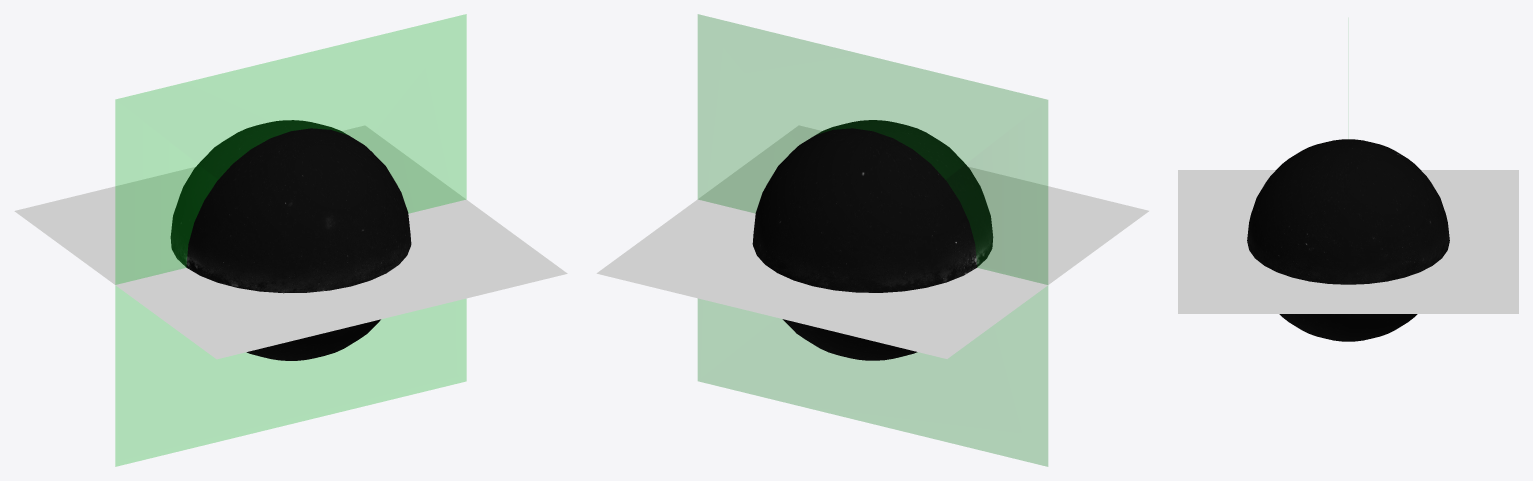
Rendered from portal-4.glb.
3 views of the same model, side by side, from view 1: azimuth 30°, elevation 25°; view 2: azimuth 150°, elevation 25°; view 3: azimuth 270°, elevation 25° (orthographic). The views are drawn at different scales.
Parts seen in each view (by area): view 1: clip.001, skyOut, showIn, hideIn, skyIn; view 2: clip.001, skyIn, hideIn, showIn, skyOut; view 3: hideIn, showIn, skyIn, skyOut.
Part boxes in pixels (bbox=[...]): clip.001: bbox=[115, 14, 466, 466]; skyOut: bbox=[186, 128, 411, 360]; showIn: bbox=[116, 199, 567, 359]; hideIn: bbox=[14, 125, 465, 285]; skyIn: bbox=[170, 120, 347, 267]; clip.001: bbox=[698, 14, 1047, 466]; skyIn: bbox=[752, 128, 977, 360]; hideIn: bbox=[596, 199, 1047, 358]; showIn: bbox=[698, 125, 1148, 284]; skyOut: bbox=[816, 120, 993, 266]; hideIn: bbox=[1348, 170, 1518, 313]; showIn: bbox=[1178, 170, 1348, 313]; skyIn: bbox=[1348, 139, 1449, 341]; skyOut: bbox=[1247, 139, 1348, 341].
Bounding box in the file's own units: 200 × 200 × 200.
10 materials, 3 textured.
